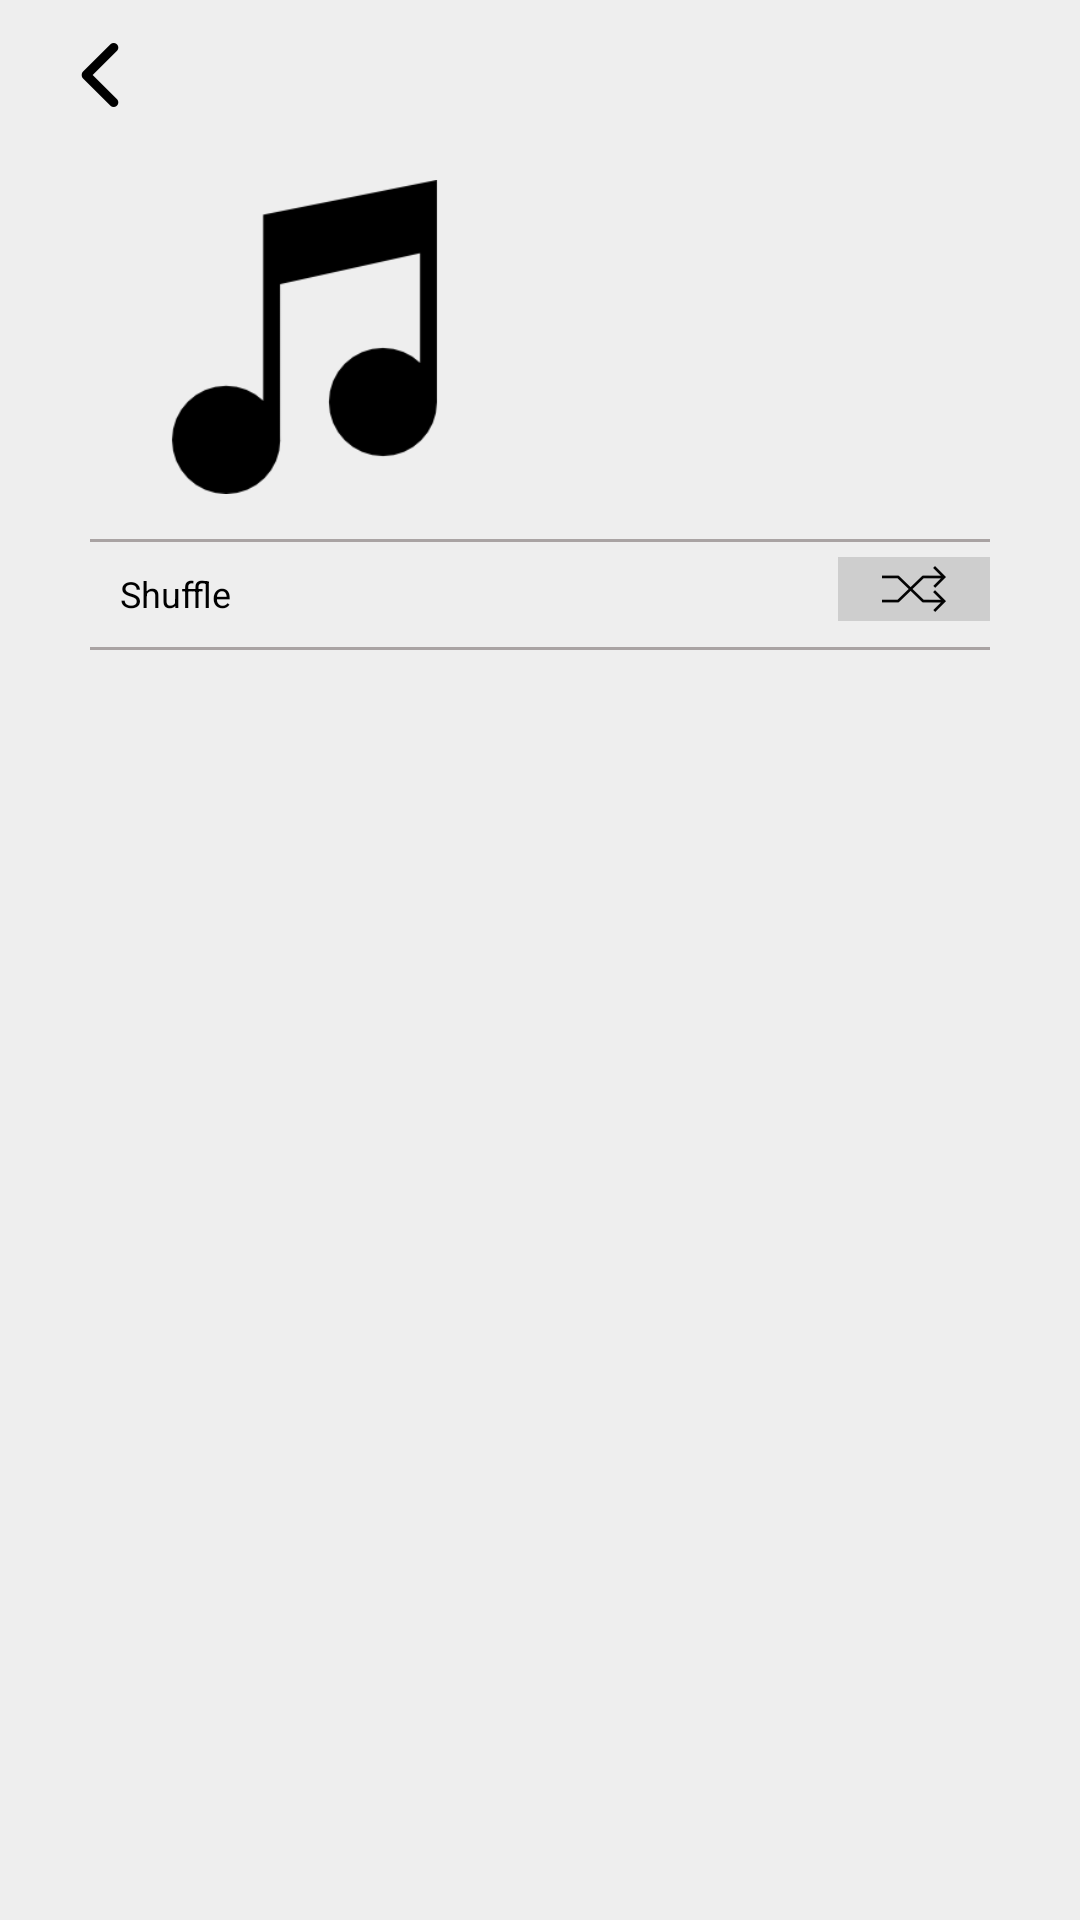

Named icons in this screenshot (1080w x 1920h) and their bounding boxes, box=[x1, y1, x2, y2]:
back arrow: box=[81, 43, 119, 107]
musical note: box=[172, 180, 437, 494]
shuffle arrows: box=[838, 557, 990, 621]
